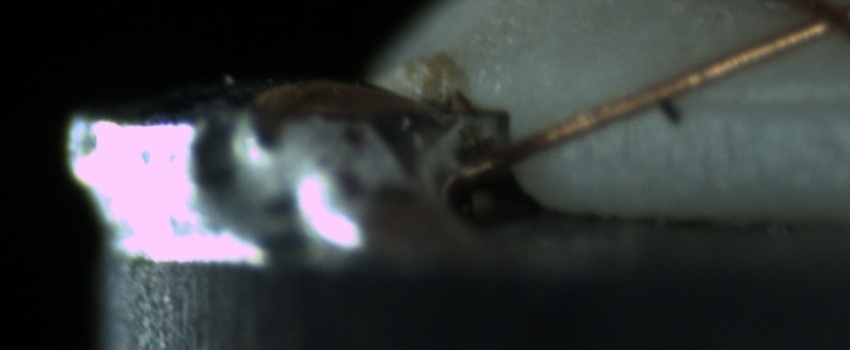CL: (772, 1, 847, 45)
DL: (663, 69, 850, 132)
